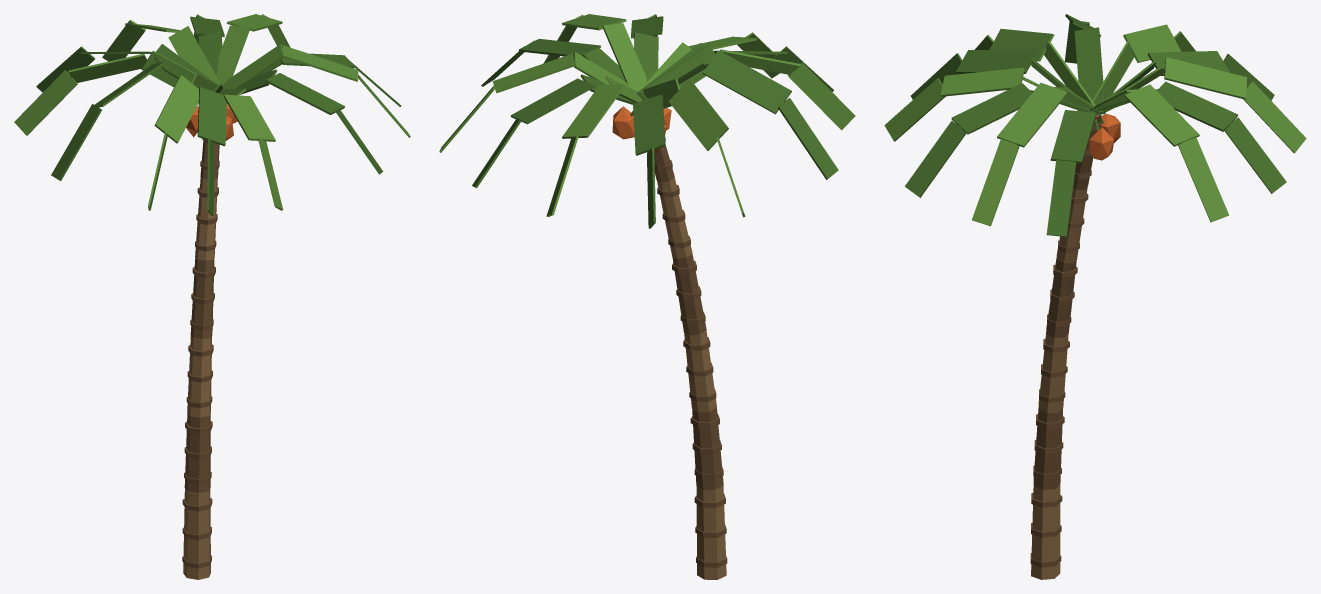
The model's file is palm_2.glb.
The picture shows the model from 3 angles, left to right: view 1: azimuth 30°, elevation 25°; view 2: azimuth 150°, elevation 25°; view 3: azimuth 270°, elevation 25°; orthographic projection. The views are drawn at different scales.
Visible parts, largest first — view 1: palm_2; view 2: palm_2; view 3: palm_2.
Part boxes in pixels (x1,y1,x2,y2): palm_2: (14,14,410,579); palm_2: (439,14,855,579); palm_2: (884,14,1306,579).
Bounding box in the file's own units: 9.19 × 13.28 × 9.38.
